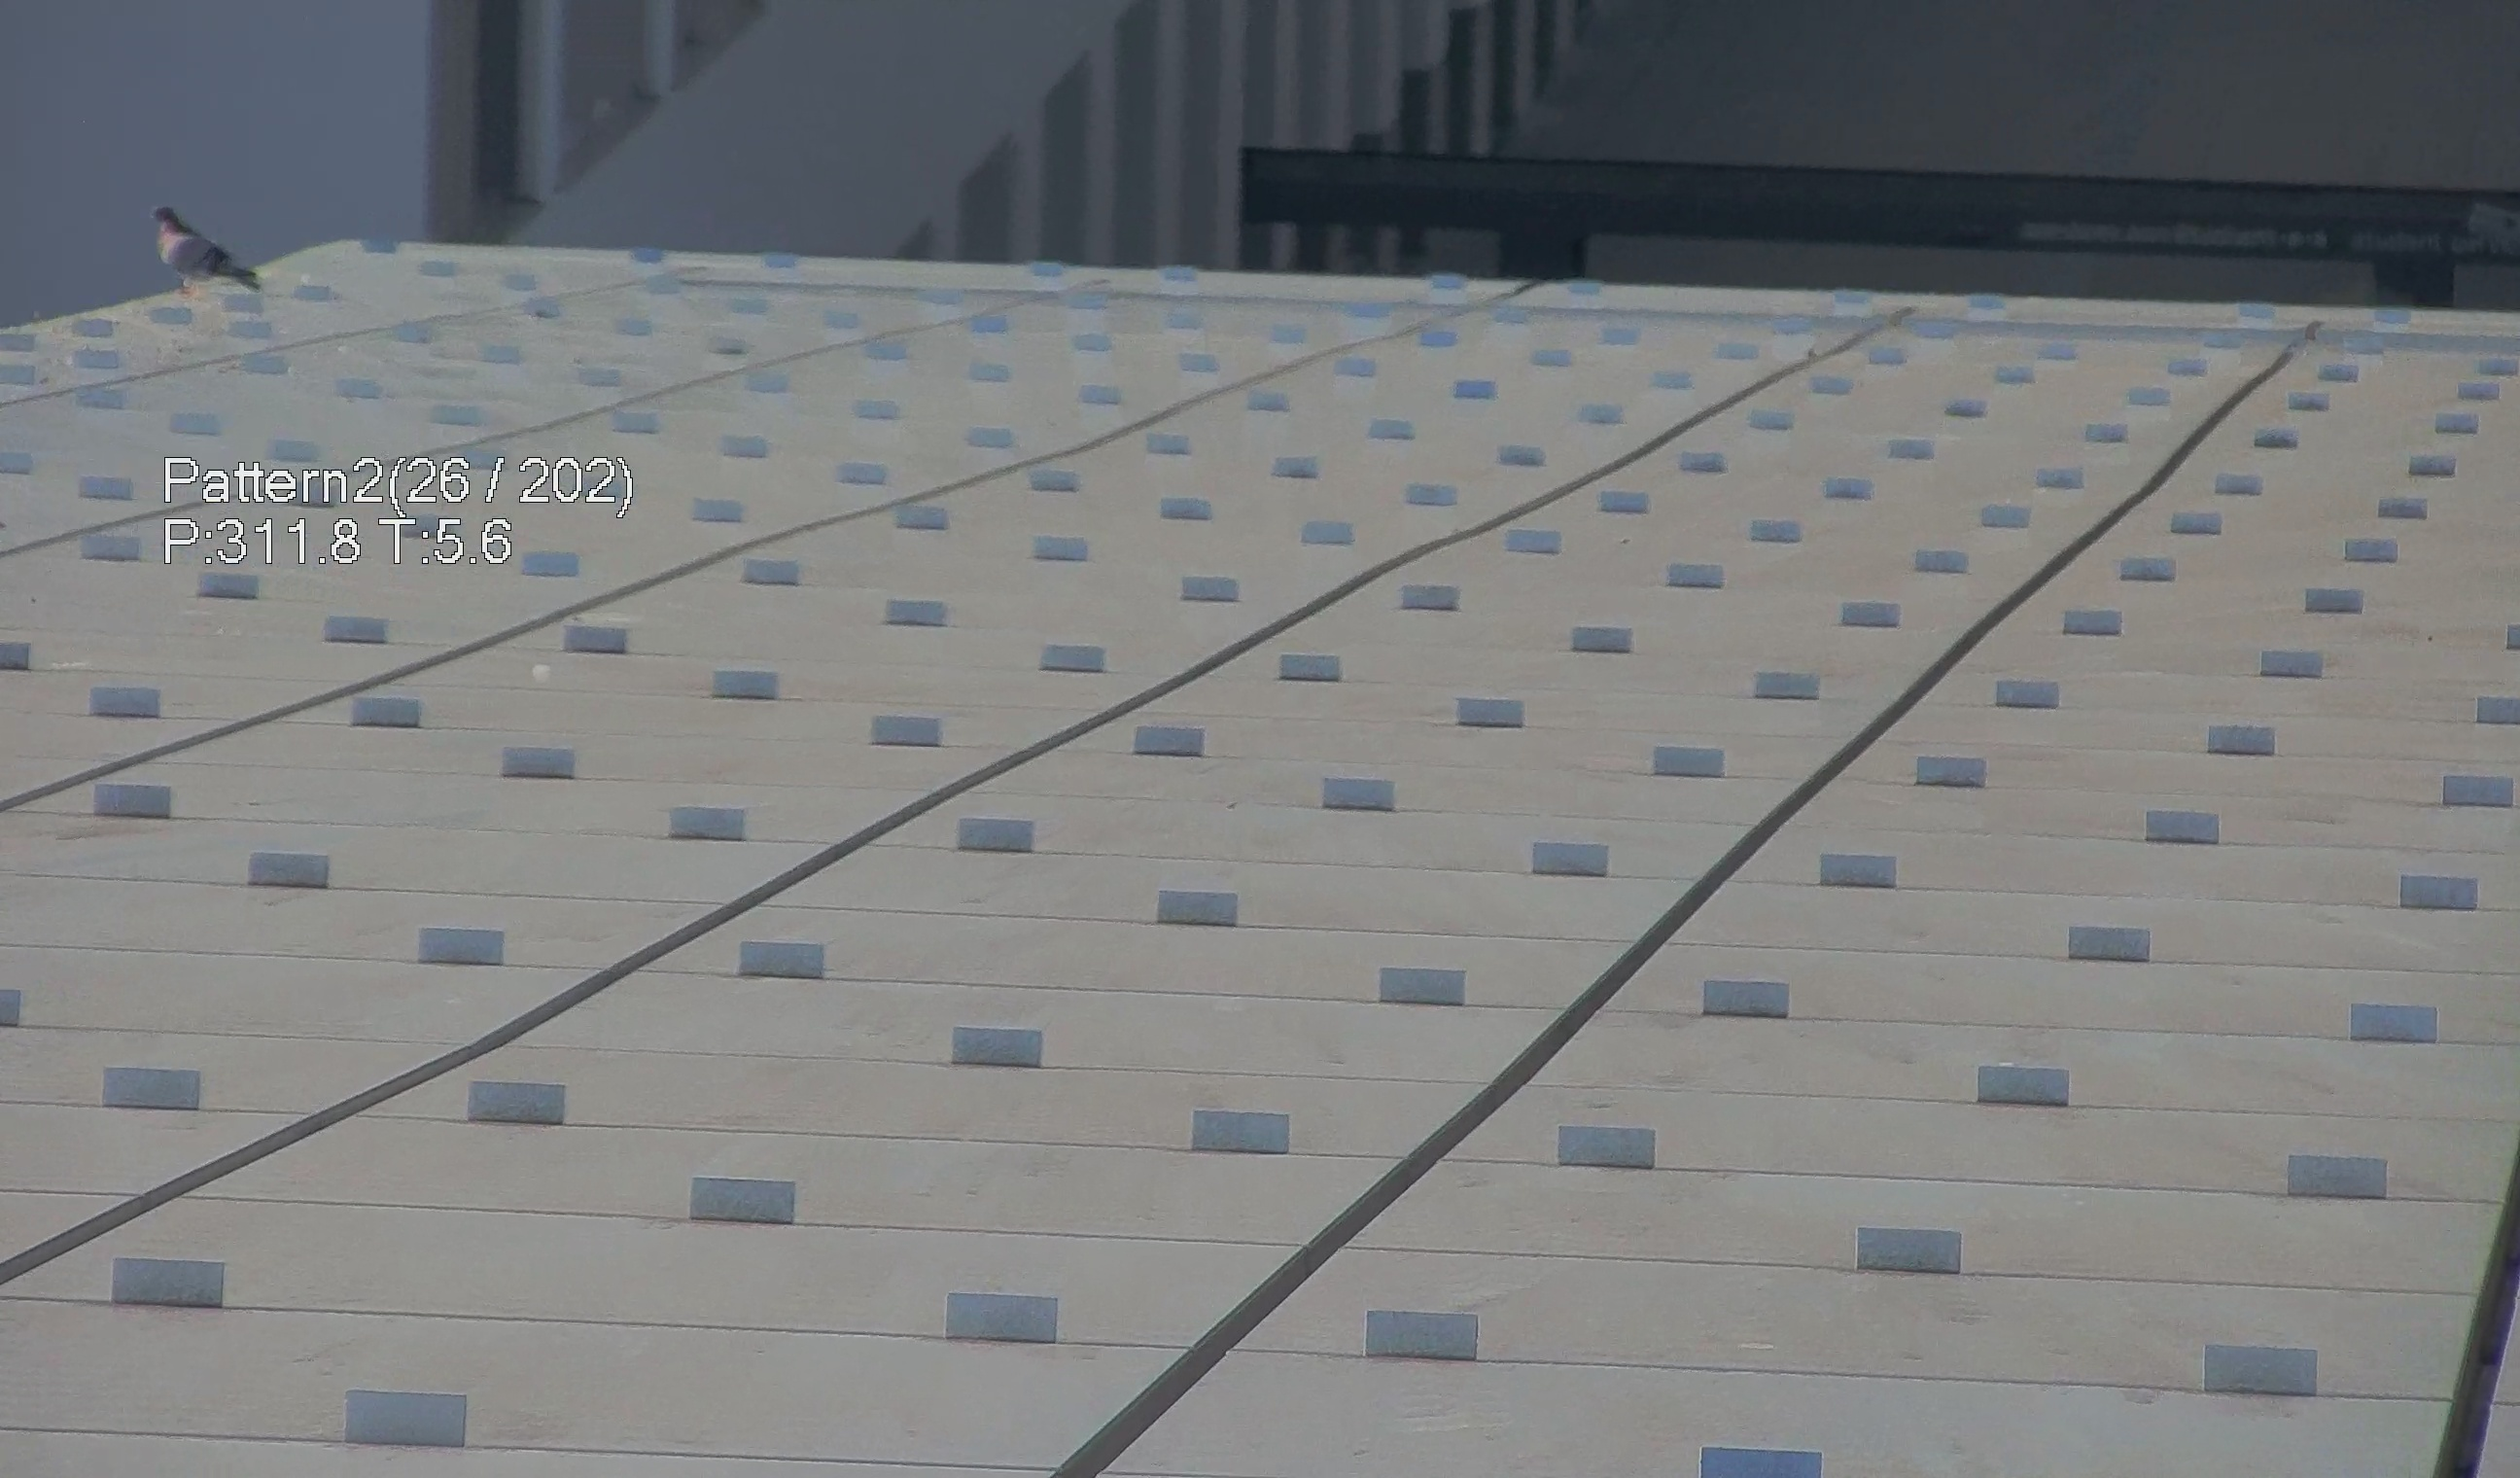Pigeon: (141, 190, 274, 306)
